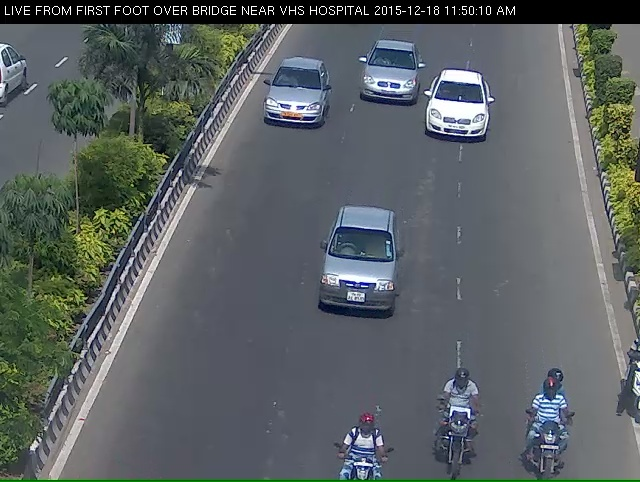Car: (321, 222, 395, 350), (260, 67, 327, 137), (428, 80, 487, 157), (357, 42, 417, 116)
Person: (437, 408, 482, 481), (533, 397, 573, 477)
